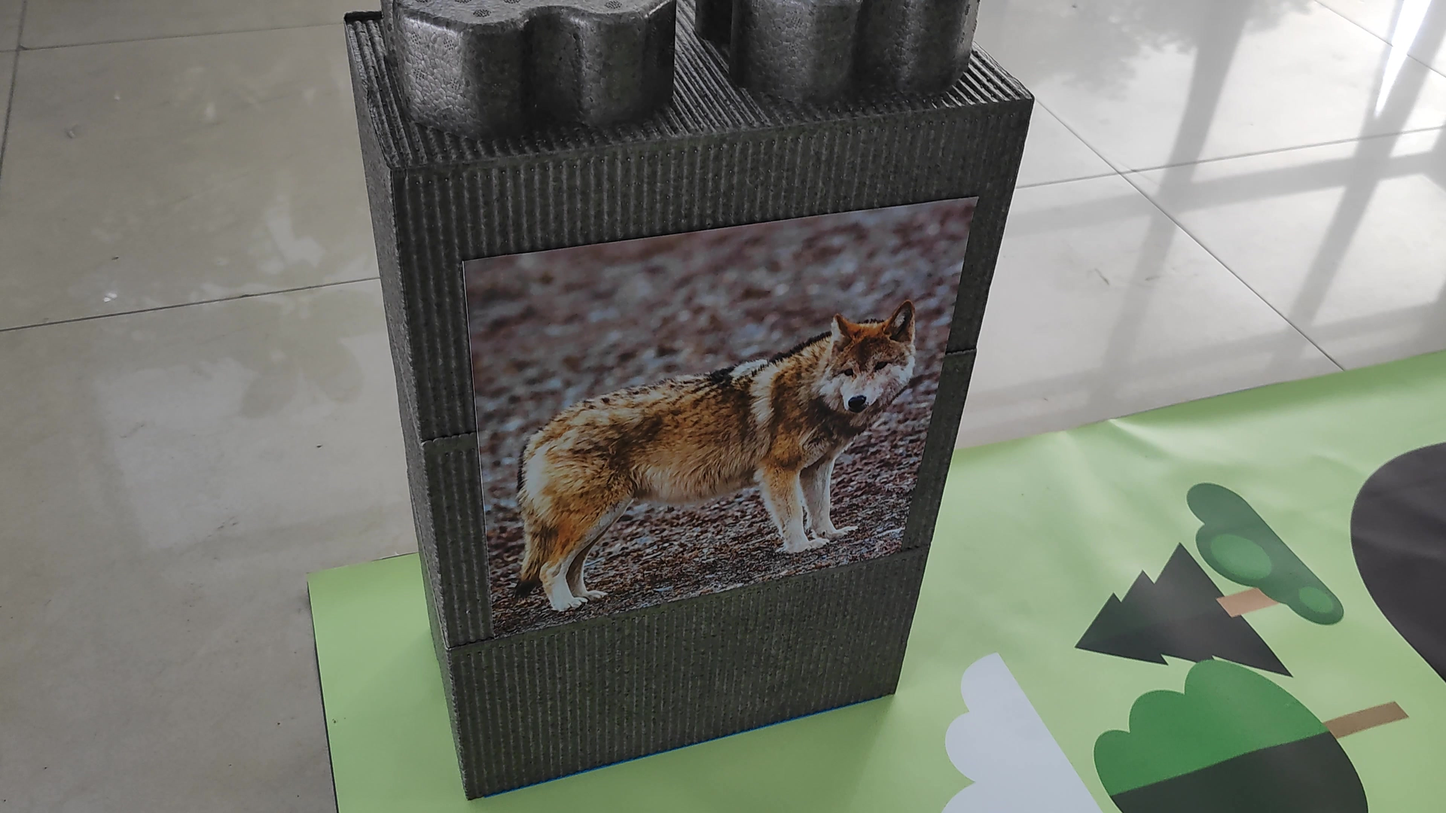wolf: (482, 250, 917, 628)
